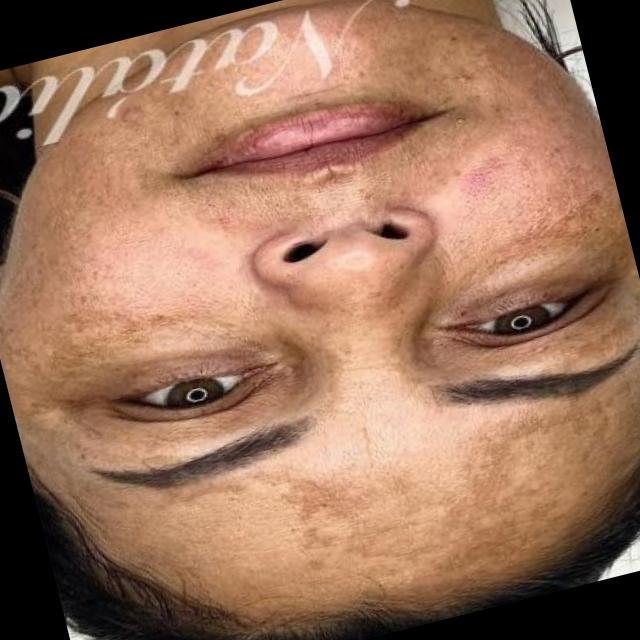melasma: (194, 375, 640, 600), (4, 112, 272, 383), (446, 26, 633, 314), (176, 26, 457, 129)
